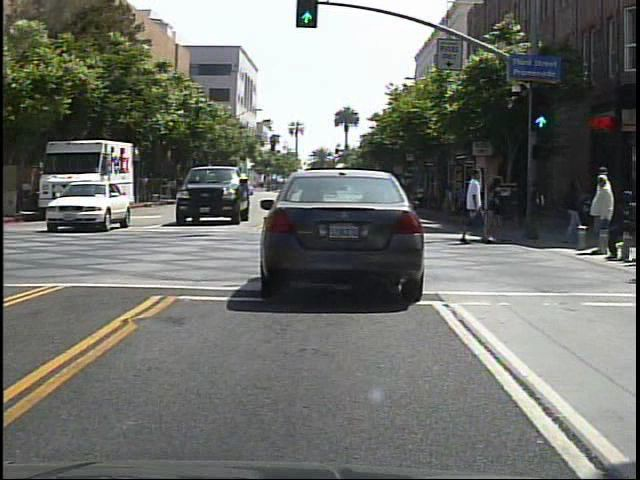person: (457, 163, 494, 249), (593, 167, 619, 260), (519, 171, 550, 247), (560, 173, 587, 245), (412, 180, 431, 214)
